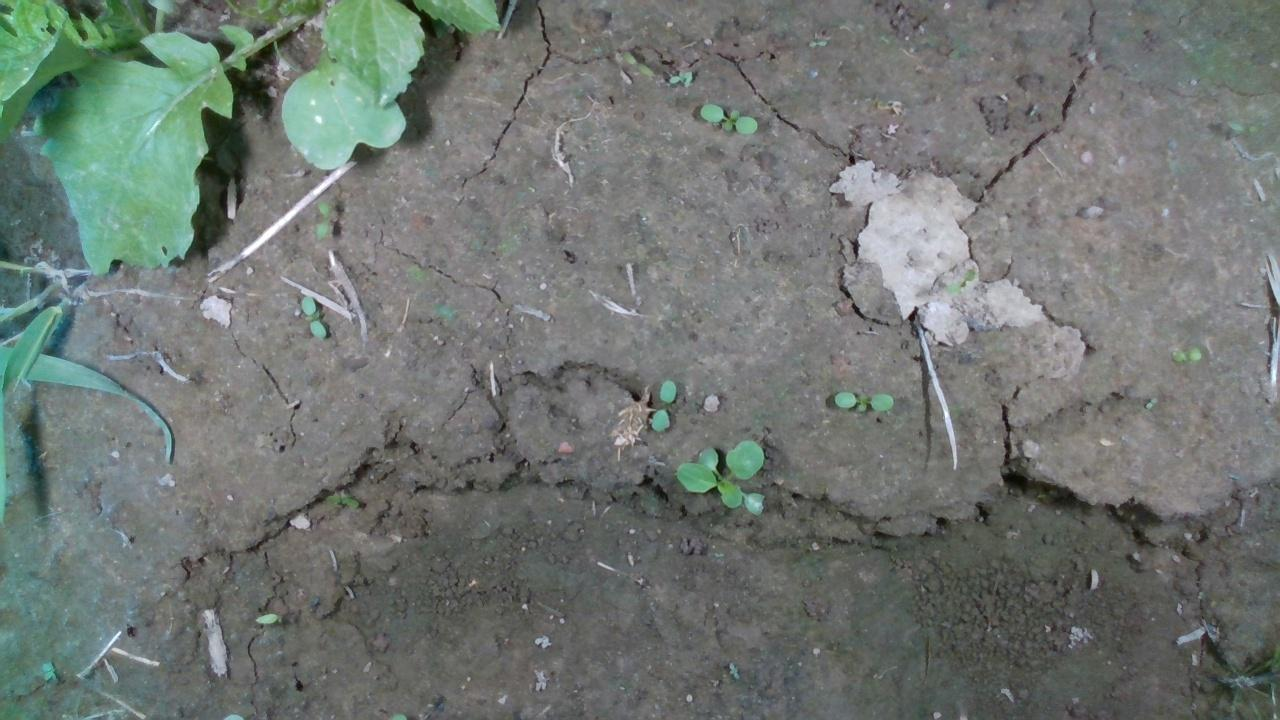weed: (832, 389, 893, 412)
